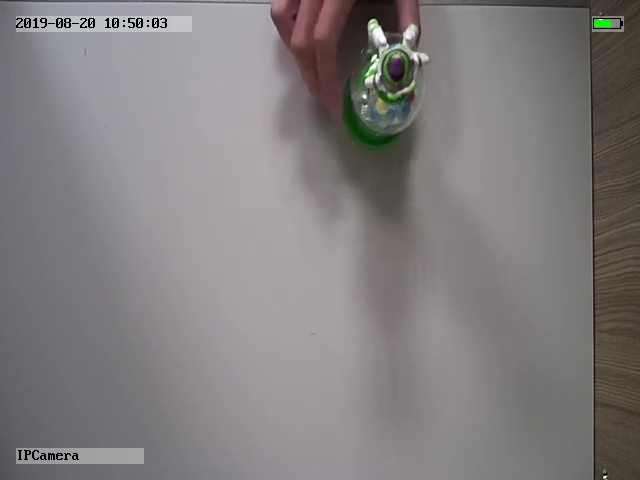buzz: (345, 18, 432, 150)
